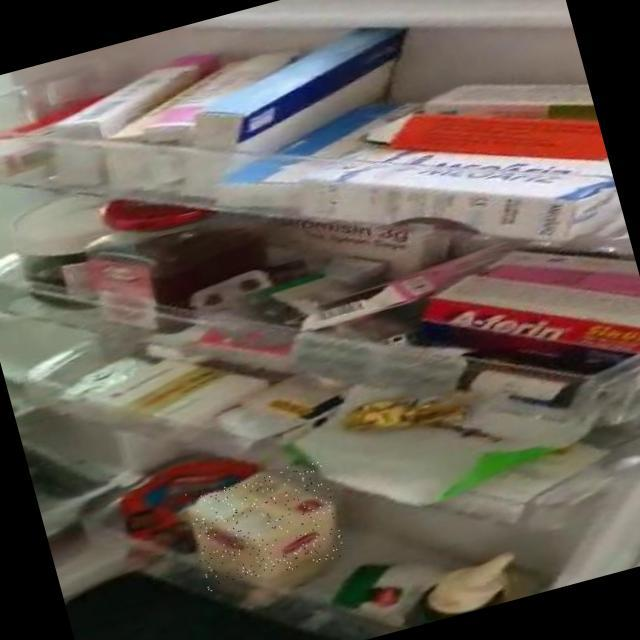Huevos: (182, 457, 349, 591)
